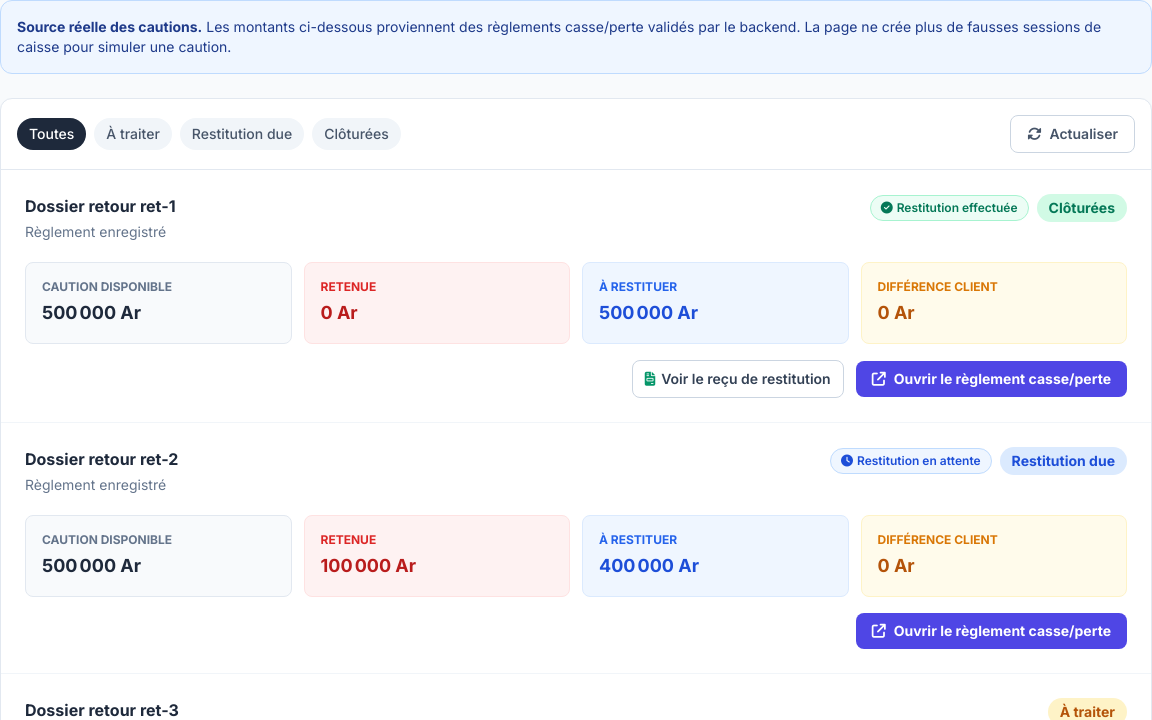
Test case: CautionPage (F18 classification and execution visibility) › accurately classifies settled caution refund as Clôturées instead of Restitution due
Expected: the heading "Dossier retour ret-1" is shown, left=25, top=194, right=176, bottom=218
Expected: the text "Restitution effectuée" is shown, left=870, top=195, right=1028, bottom=221
Clicking "Clôturées" tab should only show settlement-1
Click the tab "Clôturées".
click(356, 134)  # box left=312, top=118, right=401, bottom=150
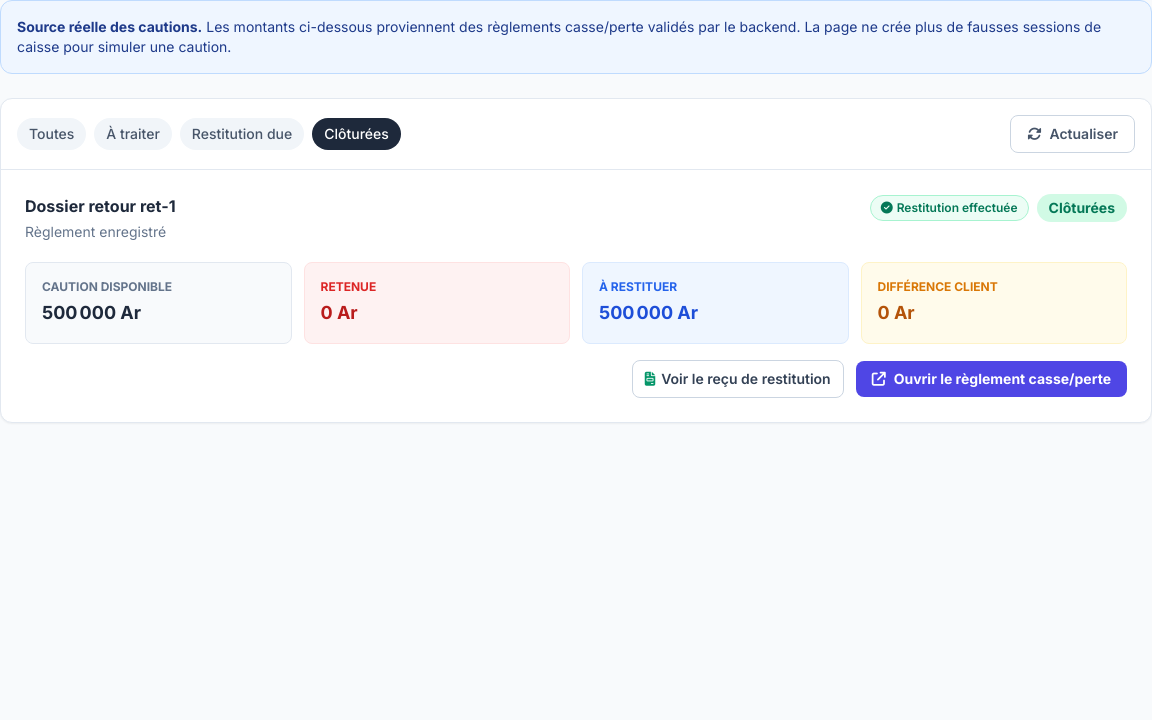
Expected: the heading "Dossier retour ret-1" is shown, left=25, top=194, right=176, bottom=218
Now the heading "Dossier retour ret-2" is gone
Clicking "Restitution due" tab should only show settlement-2
Click the tab "Restitution due".
click(242, 134)  # box left=180, top=118, right=304, bottom=150
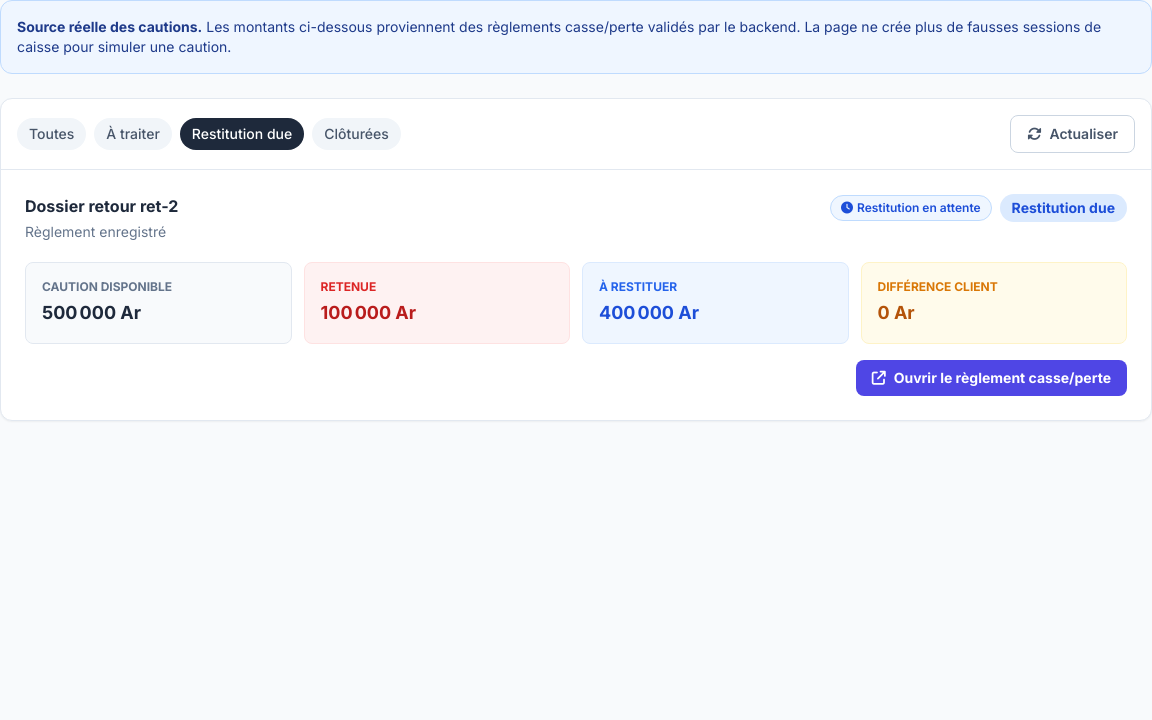
Expected: the heading "Dossier retour ret-3" is not shown
Now the heading "Dossier retour ret-1" is gone
Now the heading "Dossier retour ret-2" is shown, box left=25, top=194, right=178, bottom=218
